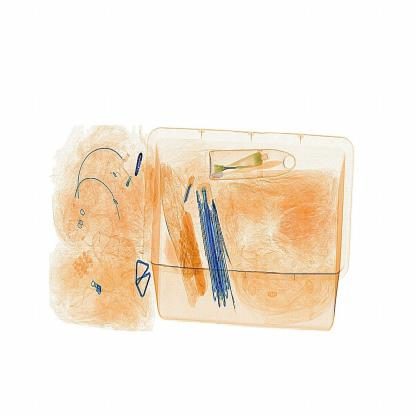pliers: (177, 171, 197, 208)
